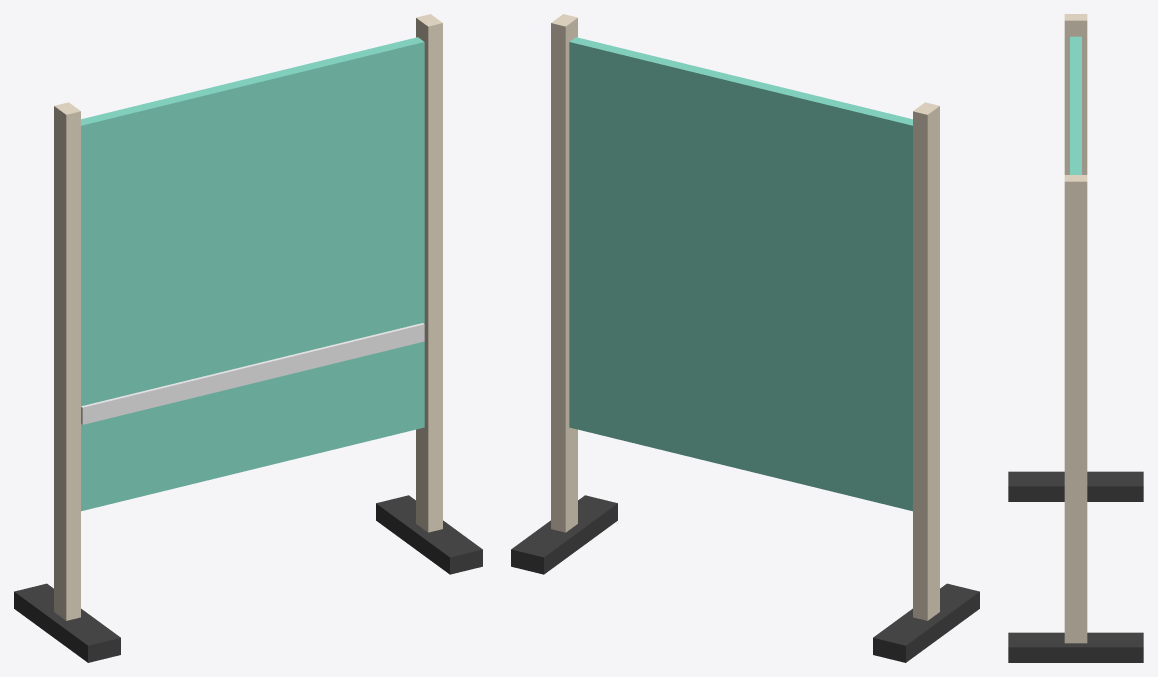
3 views of the same model, side by side, from view 1: azimuth 30°, elevation 25°; view 2: azimuth 150°, elevation 25°; view 3: azimuth 270°, elevation 25° (orthographic). The views are drawn at different scales.
Parts seen in each view (by area): view 1: Frosted privacy panel, Privacy frame upright, Privacy frame upright.001, Privacy lower stripe, Privacy frame foot.001, Privacy frame foot; view 2: Frosted privacy panel, Privacy frame upright, Privacy frame upright.001, Privacy frame foot.001, Privacy frame foot; view 3: Privacy frame upright.001, Privacy frame foot.001, Privacy frame foot, Privacy frame upright, Frosted privacy panel.
Part boxes in pixels (left/top/right/bottom): Frosted privacy panel: left=81, top=37, right=424, bottom=511; Privacy frame upright: left=54, top=102, right=80, bottom=620; Privacy frame upright.001: left=416, top=14, right=442, bottom=532; Privacy lower stripe: left=81, top=323, right=424, bottom=424; Privacy frame foot.001: left=376, top=495, right=482, bottom=574; Privacy frame foot: left=14, top=583, right=120, bottom=662; Frosted privacy panel: left=569, top=37, right=912, bottom=511; Privacy frame upright: left=913, top=102, right=939, bottom=620; Privacy frame upright.001: left=551, top=14, right=577, bottom=532; Privacy frame foot.001: left=511, top=495, right=617, bottom=574; Privacy frame foot: left=873, top=583, right=979, bottom=662; Privacy frame upright.001: left=1064, top=175, right=1087, bottom=643; Privacy frame foot.001: left=1008, top=632, right=1143, bottom=662; Privacy frame foot: left=1008, top=471, right=1143, bottom=501; Privacy frame upright: left=1064, top=14, right=1087, bottom=174; Frosted privacy panel: left=1070, top=36, right=1081, bottom=174.
Bounding box in the file's own units: 1.2 × 1.52 × 0.39.
Materials: 1 (1 with a texture image).
